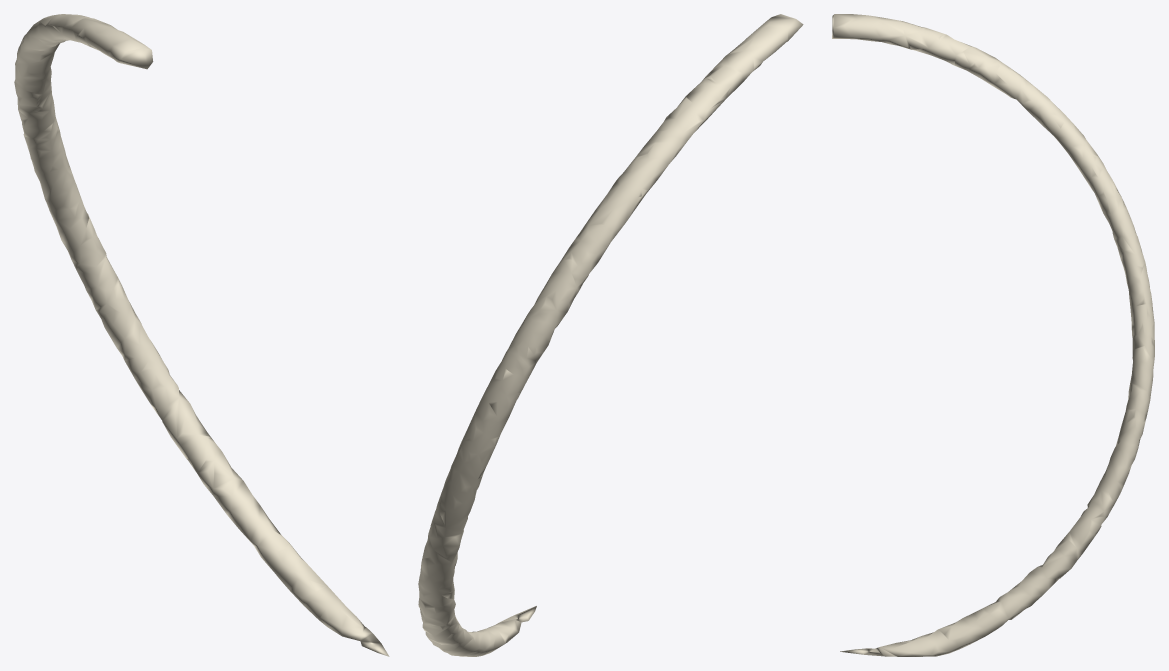
Rendered from rib_6_r.glb.
The picture shows the model from 3 angles, left to right: view 1: azimuth 30°, elevation 25°; view 2: azimuth 150°, elevation 25°; view 3: azimuth 270°, elevation 25°; orthographic projection. The views are drawn at different scales.
Parts seen in each view (by area): view 1: geometry_0; view 2: geometry_0; view 3: geometry_0.
Boxes of the visible parts, <box> form: geometry_0: <box>14,14,389,656</box>; geometry_0: <box>418,14,803,656</box>; geometry_0: <box>832,14,1154,656</box>.
Bounding box in the file's own units: 0.2998 × 0.6722 × 0.3671.
